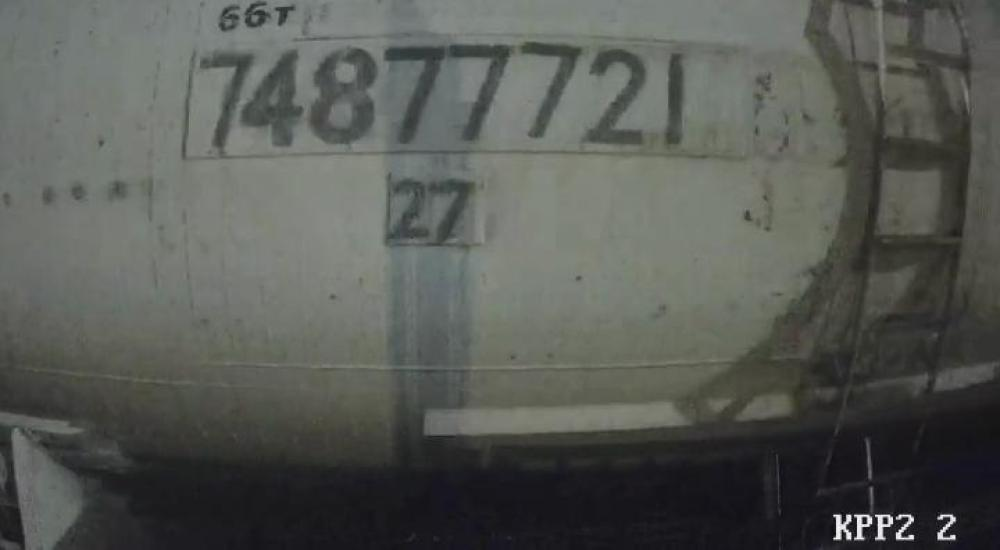Wagon-number: (196, 39, 689, 159)
